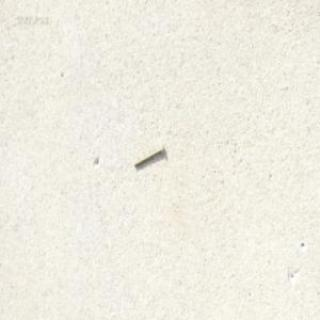Bolttrack_idkeyframe: (132, 142, 163, 166)
